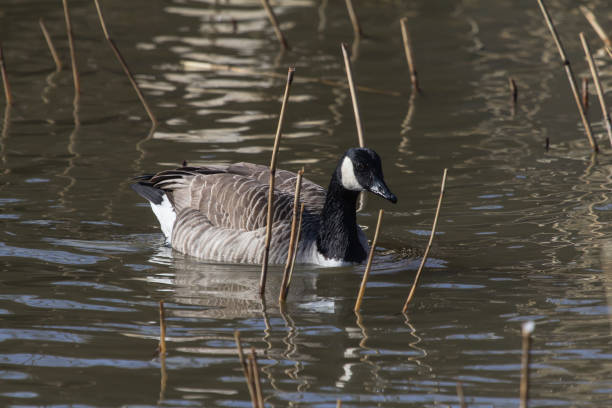goose: (131, 145, 401, 270)
